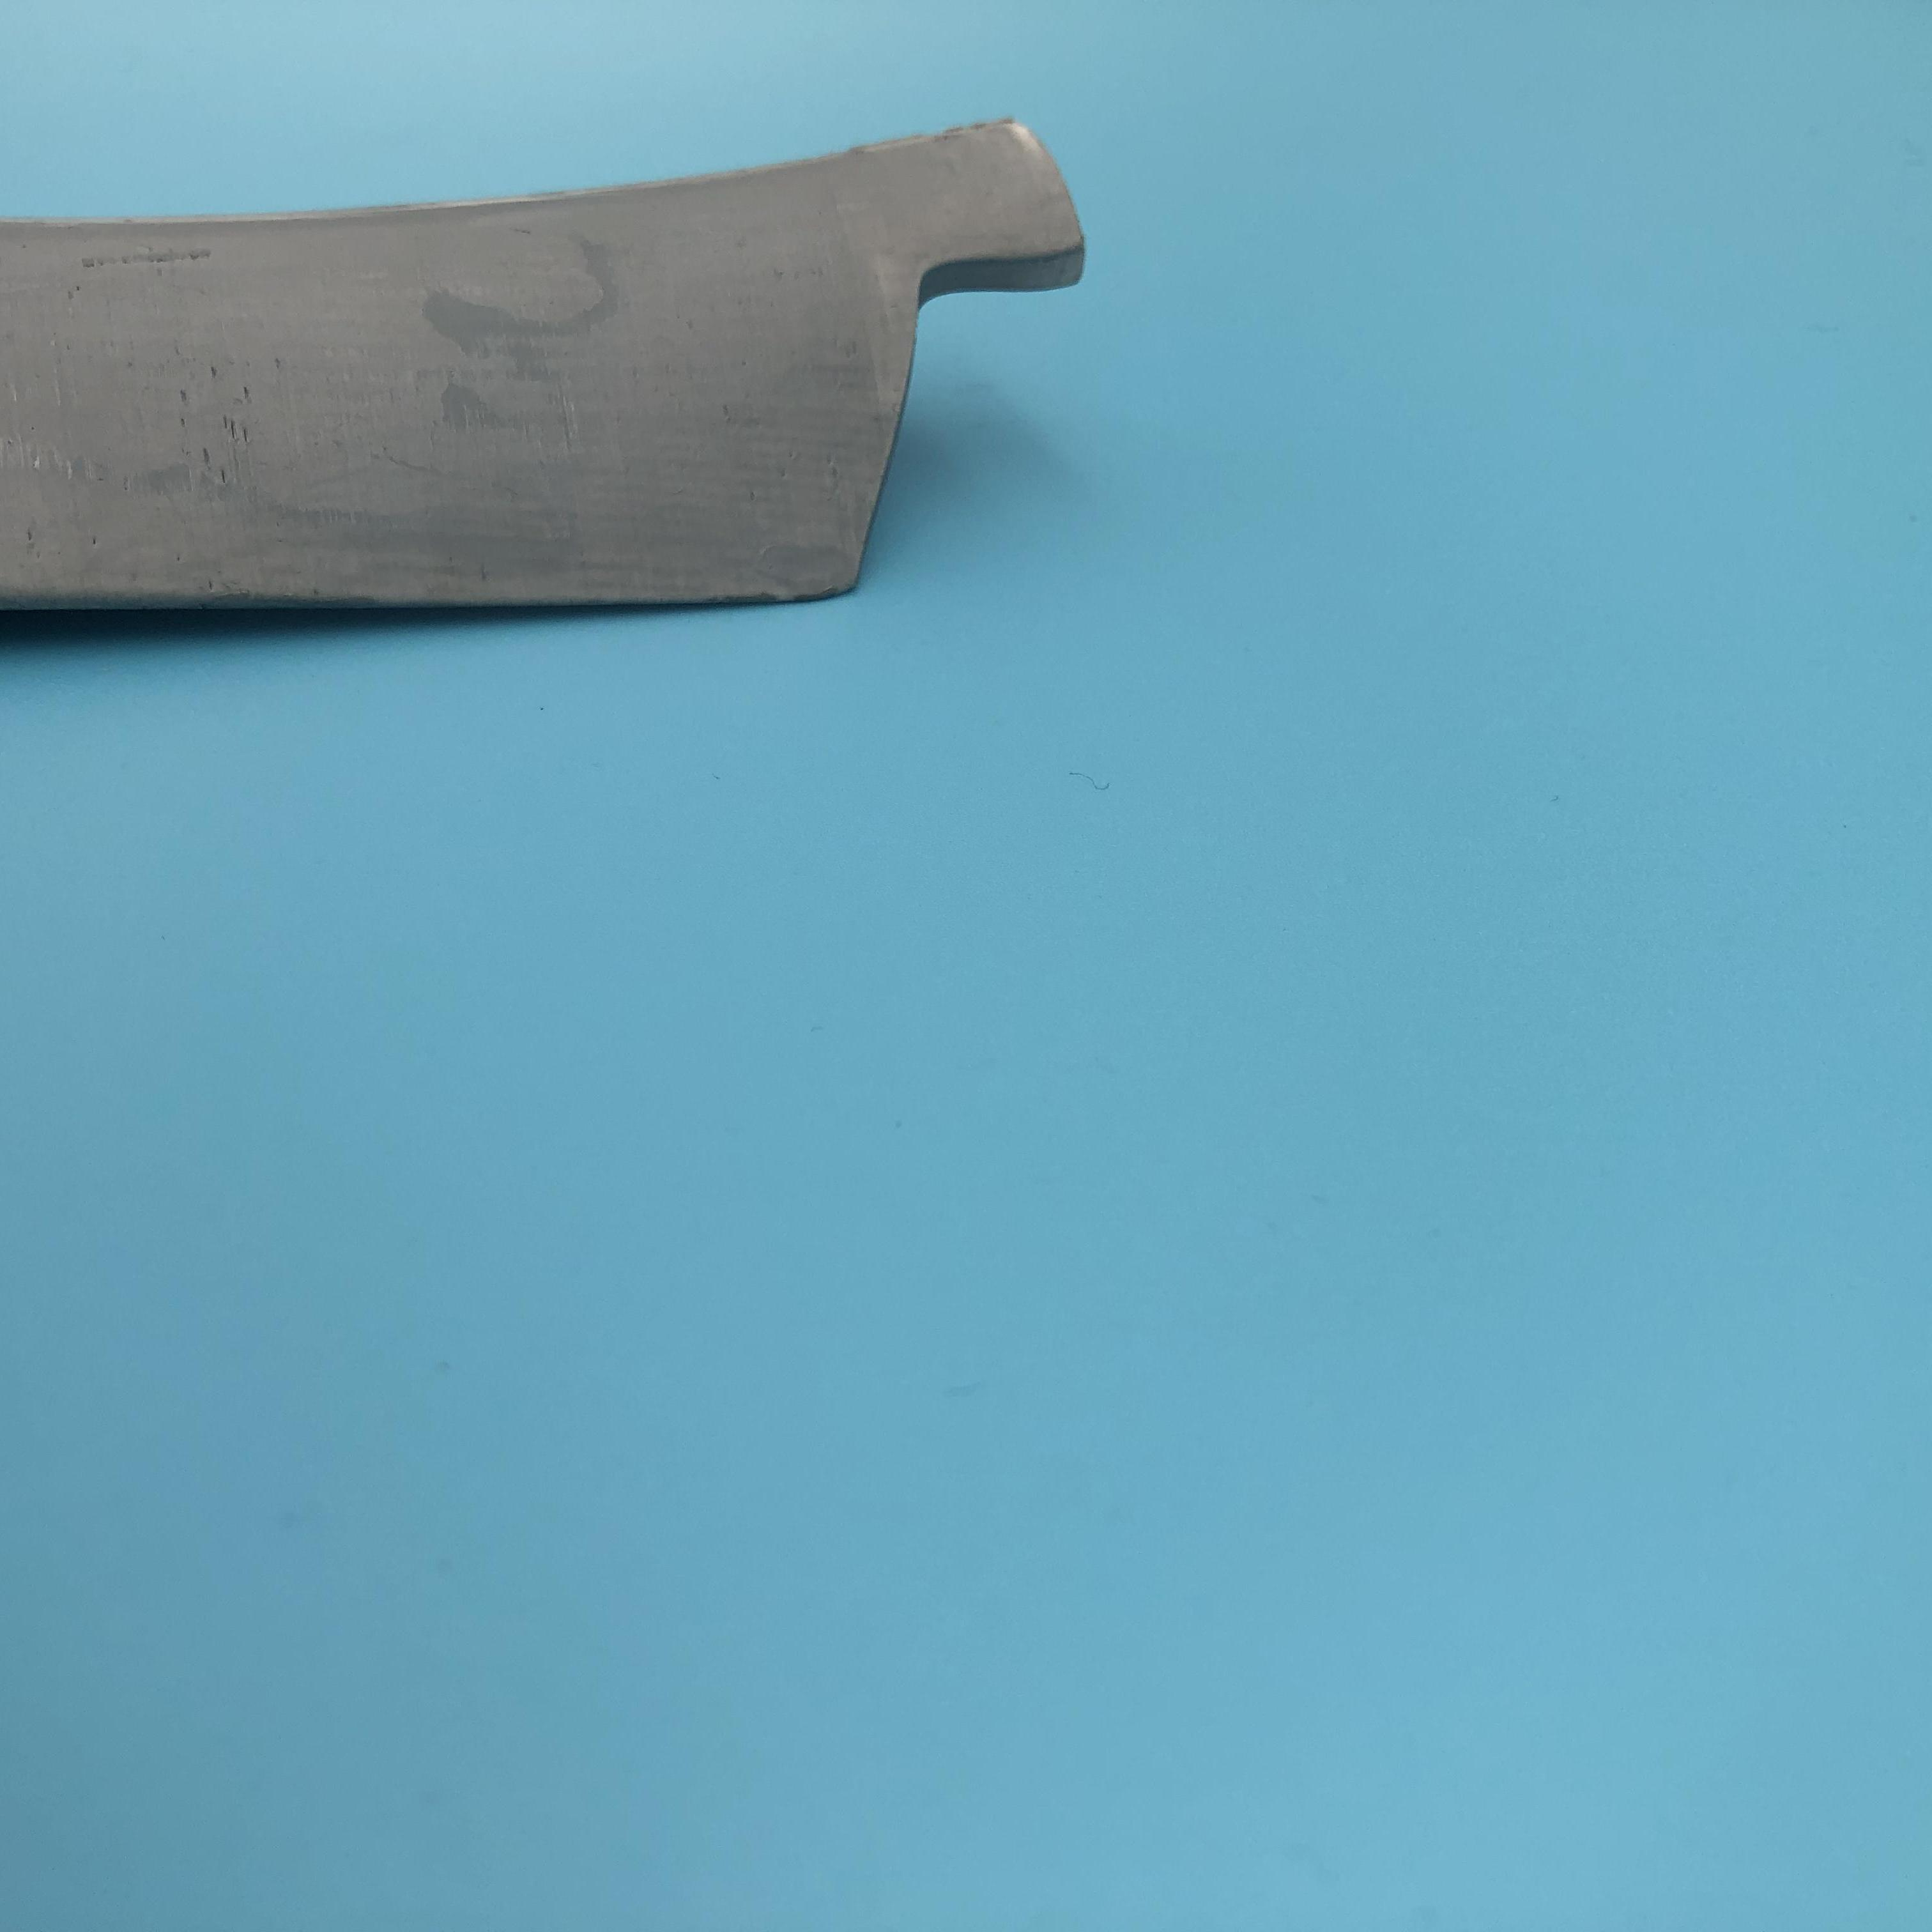fracture: (856, 241, 1051, 545)
